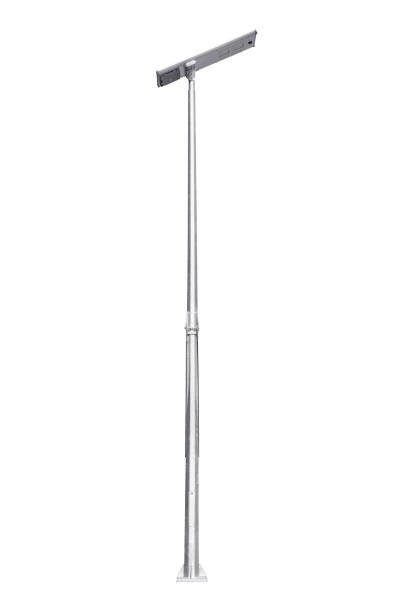light_pole: (182, 88, 204, 584)
